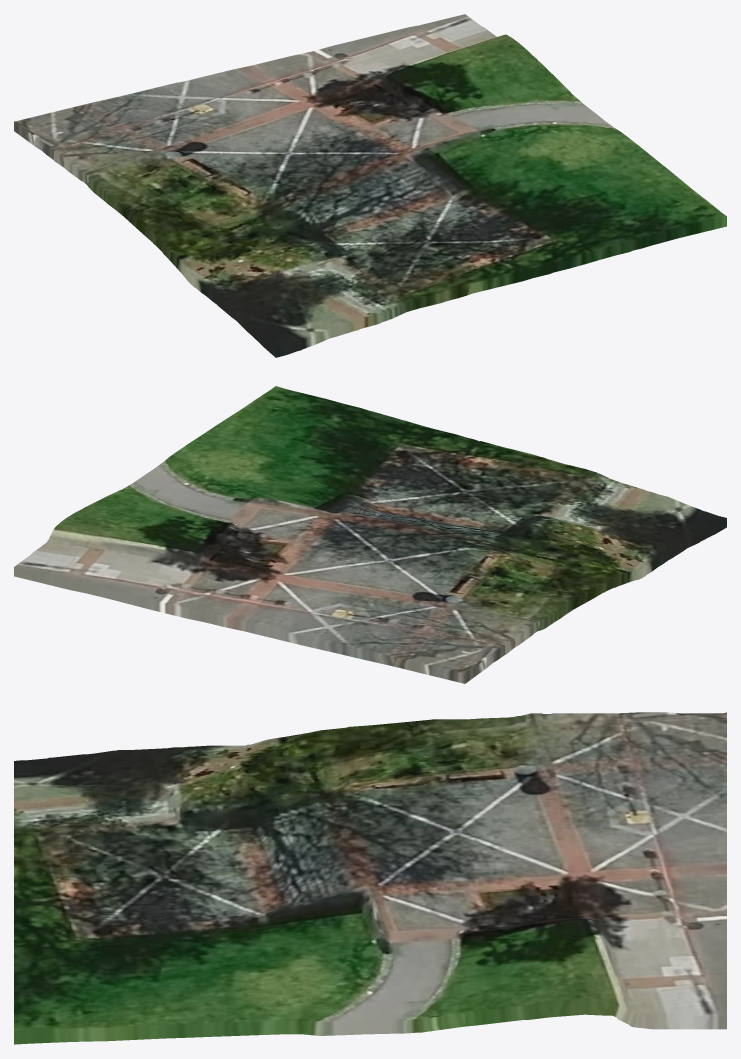
File: z20-167767-405195-h0-yup-uvflip-v3-world.glb
3 renders of one model, top to bottom at view 1: azimuth 30°, elevation 25°; view 2: azimuth 150°, elevation 25°; view 3: azimuth 270°, elevation 25°, orthographic. The views are drawn at different scales.
Size of the model in its own units: 30.16 by 3.36 by 30.32.
1 material, 1 textured.
